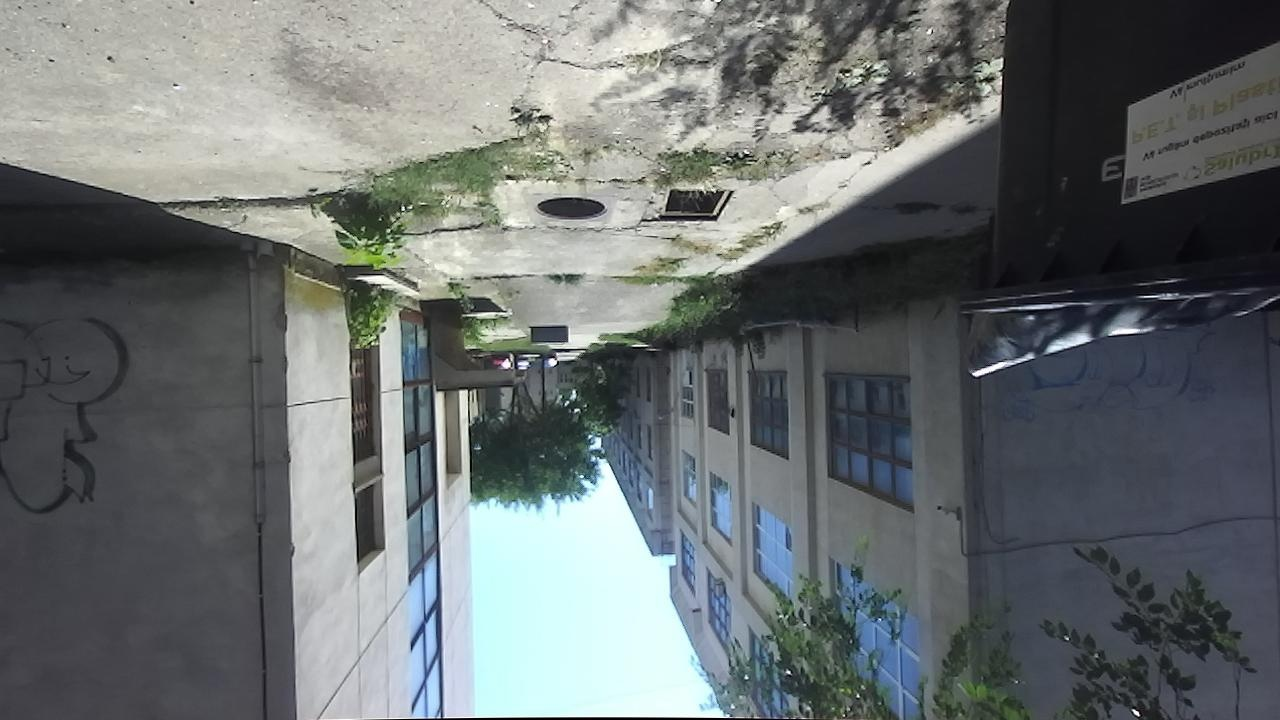drain: (654, 185, 739, 228), (535, 195, 608, 229)
